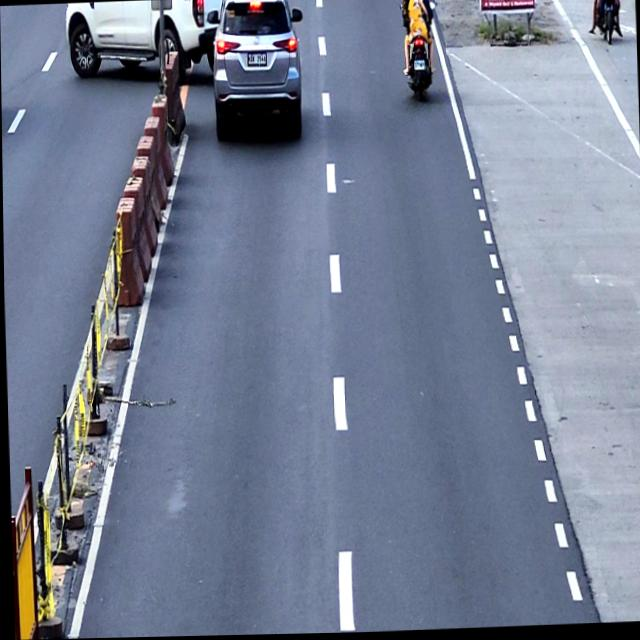Car: (64, 0, 225, 86), (210, 0, 305, 141)
License-Plate: (246, 50, 267, 68), (413, 61, 425, 73)
Motorcycle: (400, 2, 435, 104), (595, 0, 622, 51)
